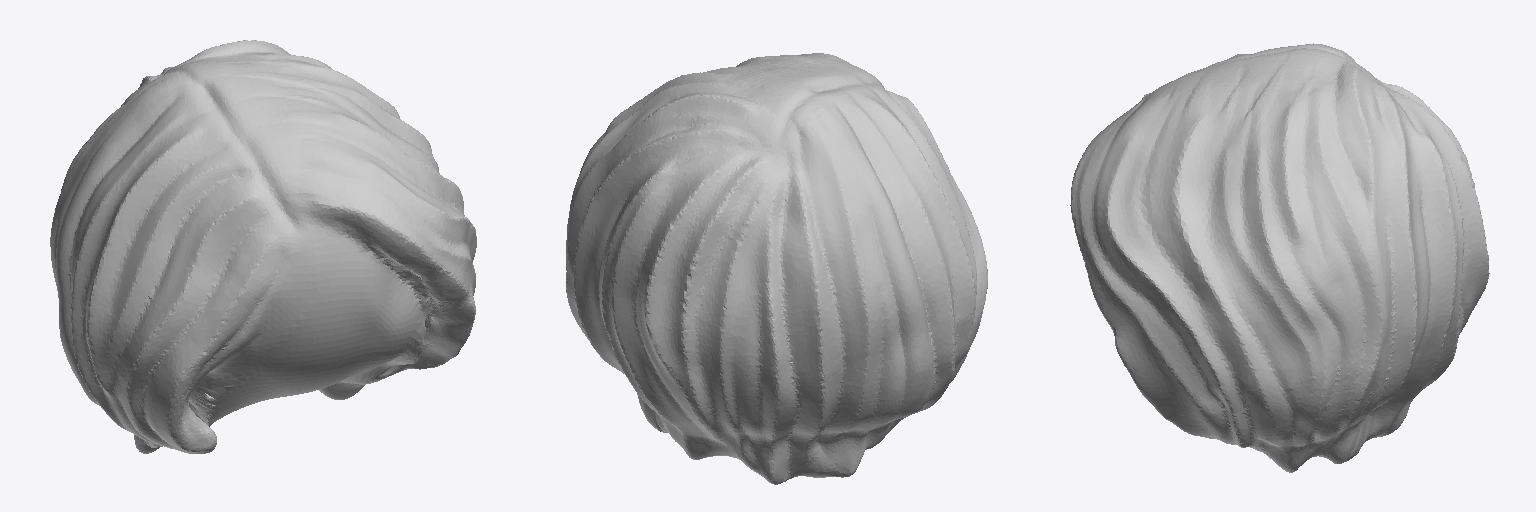
Rendered from Nurse Hair OBJ v1.OBJ.
3 renders of one model, left to right at view 1: azimuth 30°, elevation 25°; view 2: azimuth 150°, elevation 25°; view 3: azimuth 270°, elevation 25°, orthographic.
Visible parts, largest first — view 1: Group12292; view 2: Group12292; view 3: Group12292.
Part boxes in pixels (left/top/right/bottom): Group12292: left=50, top=40, right=476, bottom=453; Group12292: left=566, top=53, right=987, bottom=484; Group12292: left=1070, top=43, right=1489, bottom=472.
Bounding box in the file's own units: 1.69 × 1.61 × 1.64.